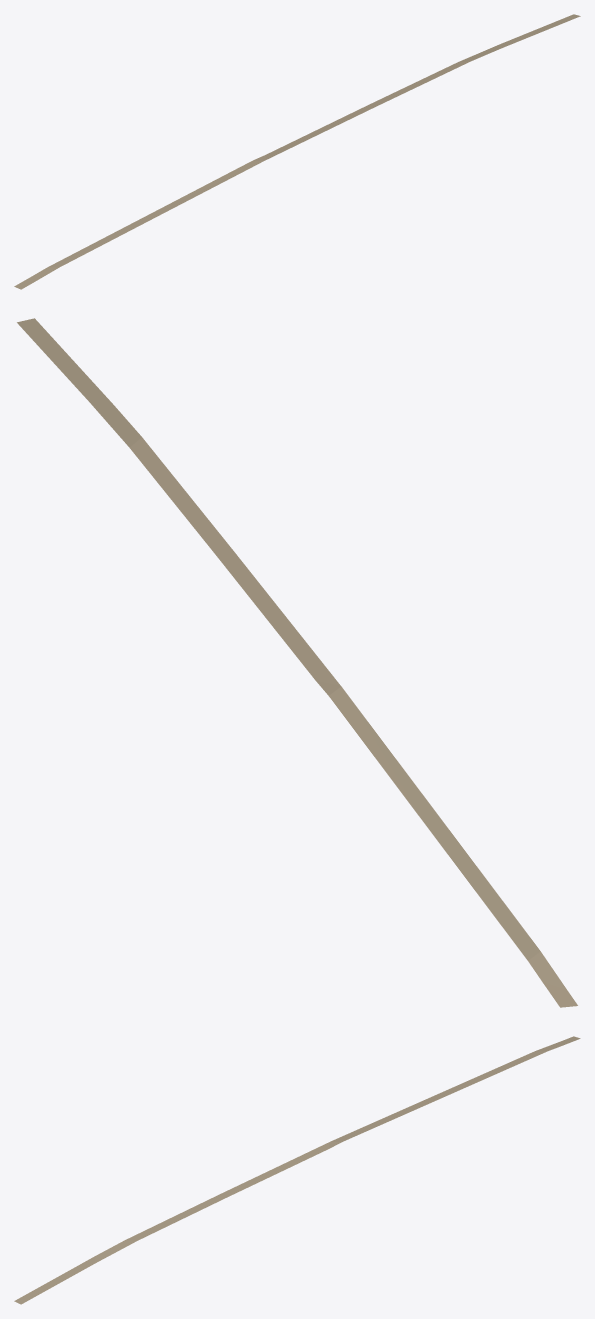
Rendered from farm_-11_-12_track.glb.
3 renders of one model, top to bottom at view 1: azimuth 90°, elevation 25°; view 2: azimuth 150°, elevation 25°; view 3: azimuth 270°, elevation 25°, orthographic. The views are drawn at different scales.
Parts seen in each view (by area): view 1: geometry_0; view 2: geometry_0; view 3: geometry_0.
Part boxes in pixels (x1,y1,x2,y2): geometry_0: (14,14,580,289); geometry_0: (17,318,577,1007); geometry_0: (14,1036,580,1304).
Size of the model in its own units: 220 by 4.65 by 194.
